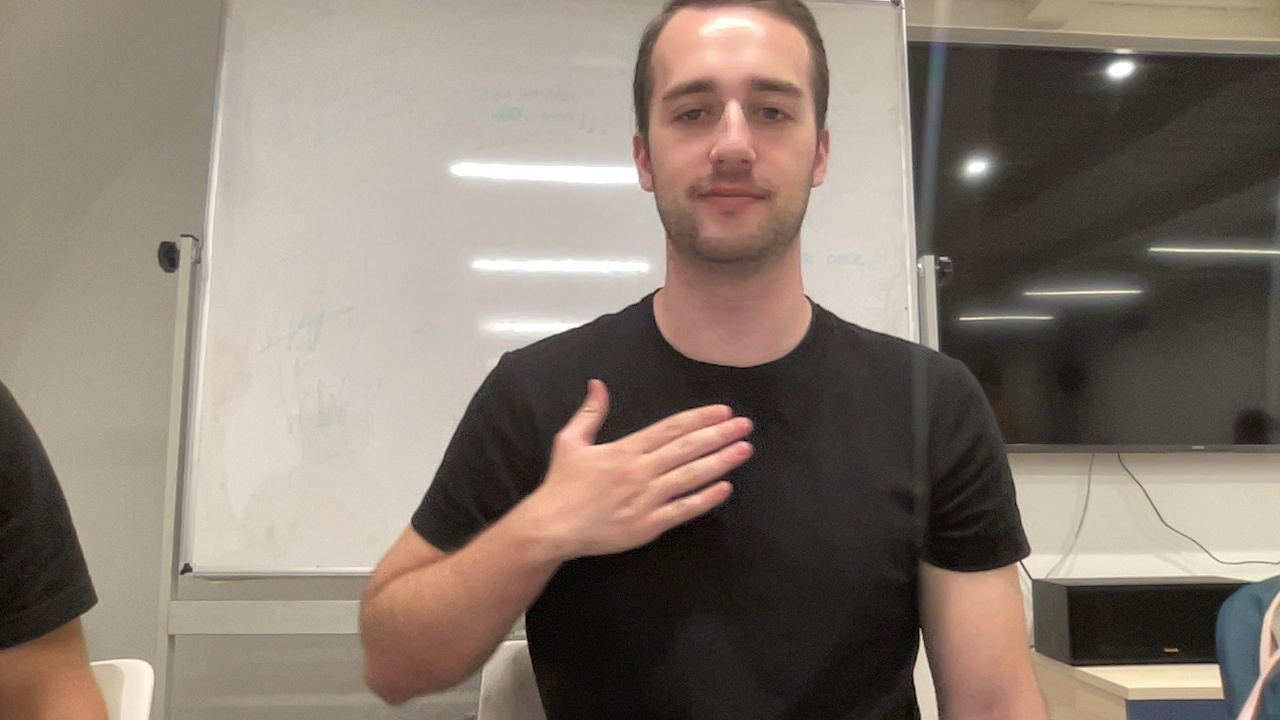Please: (355, 373, 760, 707)
